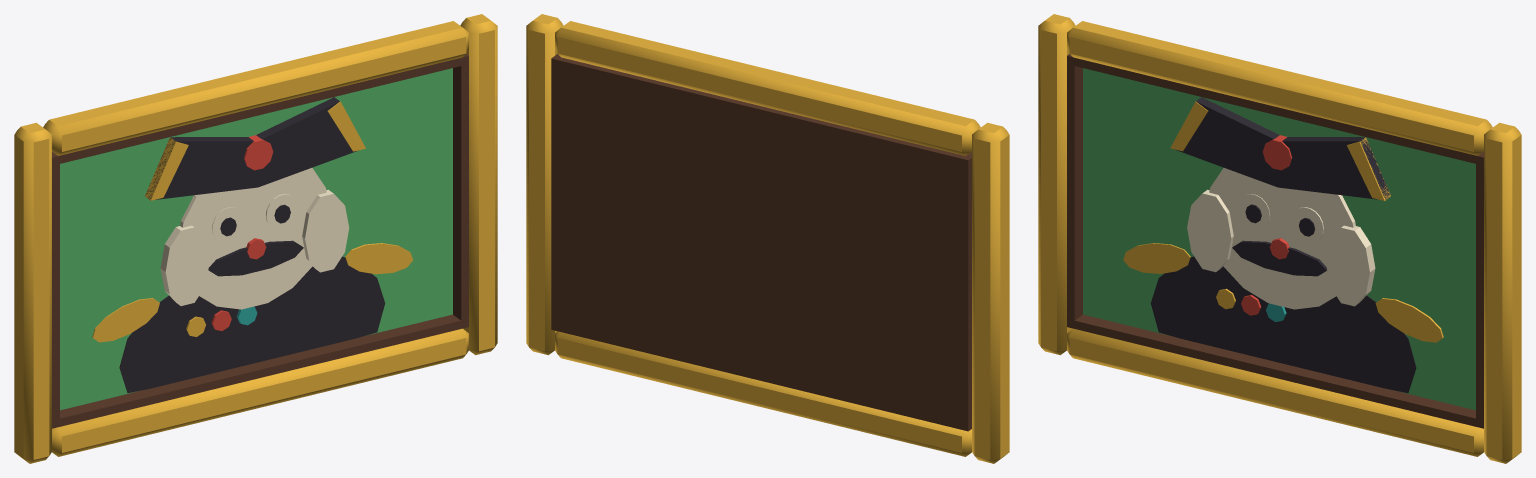
The model's file is portrait_frame_c.glb.
3 views of the same model, side by side, from view 1: azimuth 30°, elevation 25°; view 2: azimuth 150°, elevation 25°; view 3: azimuth 330°, elevation 25° (orthographic).
Visible parts, largest first — view 1: portrait_frame_c; view 2: portrait_frame_c; view 3: portrait_frame_c.
Part boxes in pixels (x1,y1,x2,y2): portrait_frame_c: (14, 14, 497, 463); portrait_frame_c: (526, 14, 1009, 463); portrait_frame_c: (1038, 14, 1521, 463).
Bounding box in the file's own units: 1.5 × 1 × 0.09.
